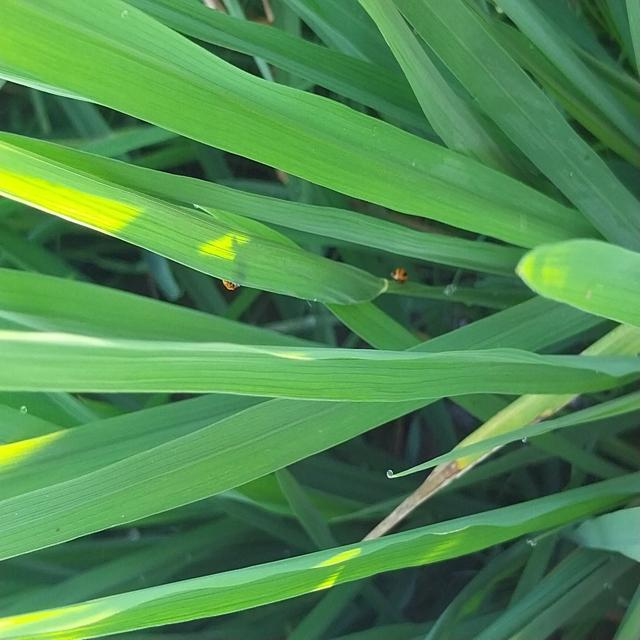Brown spot: (354, 445, 470, 555)
